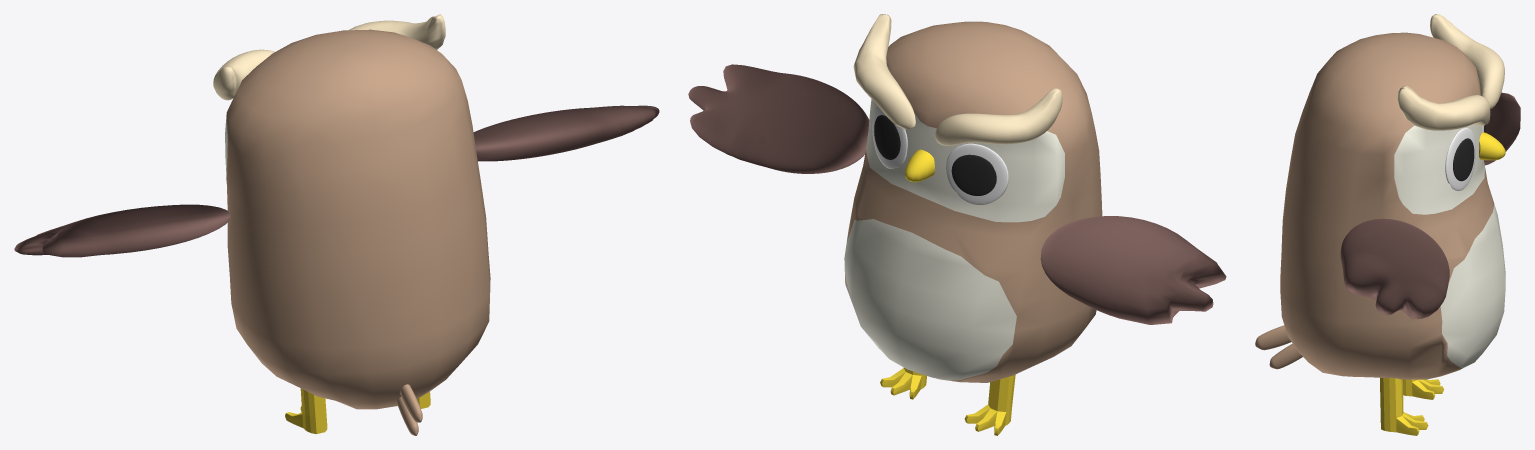
File: owl.fbx
3 renders of one model, left to right at view 1: azimuth 30°, elevation 25°; view 2: azimuth 150°, elevation 25°; view 3: azimuth 270°, elevation 25°, orthographic. The views are drawn at different scales.
Visible parts, largest first — view 1: WING_2.001; view 2: WING_2.001; view 3: WING_2.001.
Part boxes in pixels (left/top/right/bottom): WING_2.001: left=14, top=14, right=659, bottom=435; WING_2.001: left=688, top=14, right=1226, bottom=435; WING_2.001: left=1255, top=14, right=1520, bottom=435.
Size of the model in its own units: 1917 by 1199 by 801.
